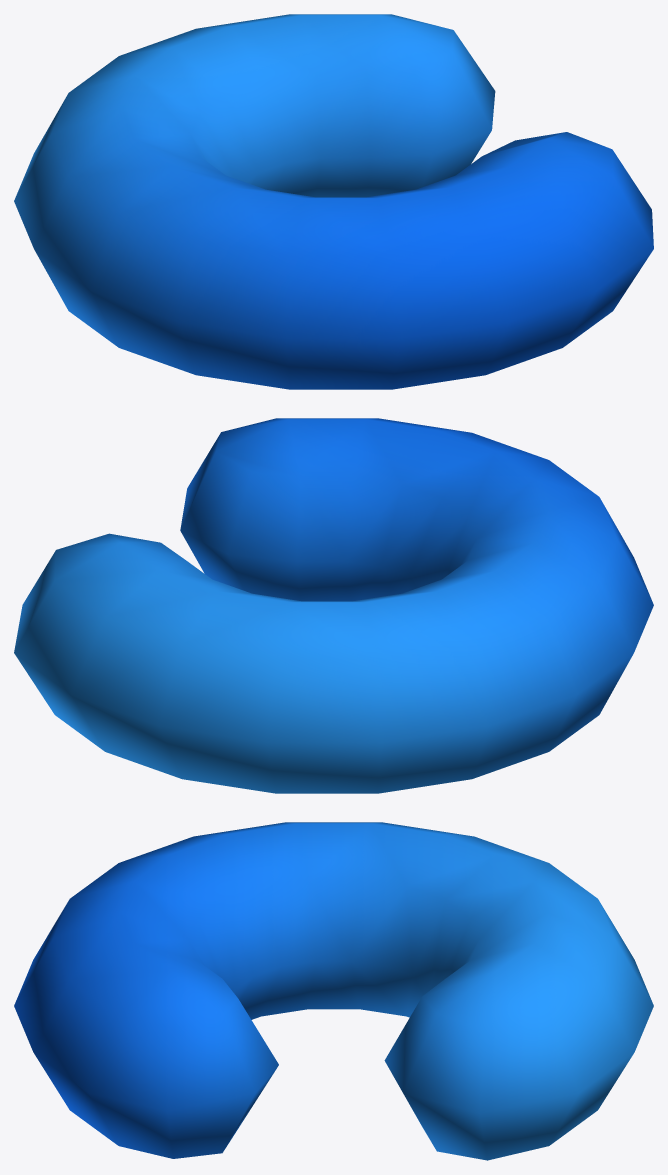
Rendered from CartoonFont_C.FBX.
3 views of the same model, one above another, from view 1: azimuth 30°, elevation 25°; view 2: azimuth 150°, elevation 25°; view 3: azimuth 270°, elevation 25° (orthographic). The views are drawn at different scales.
Parts seen in each view (by area): view 1: C; view 2: C; view 3: C.
Boxes of the visible parts, x1,y1,x2,y2 form: C: (14, 14, 653, 389); C: (14, 418, 653, 793); C: (14, 822, 653, 1160).
Size of the model in its own units: 27.13 by 9.7 by 30.53.
Materials: 1 (1 with a texture image).
